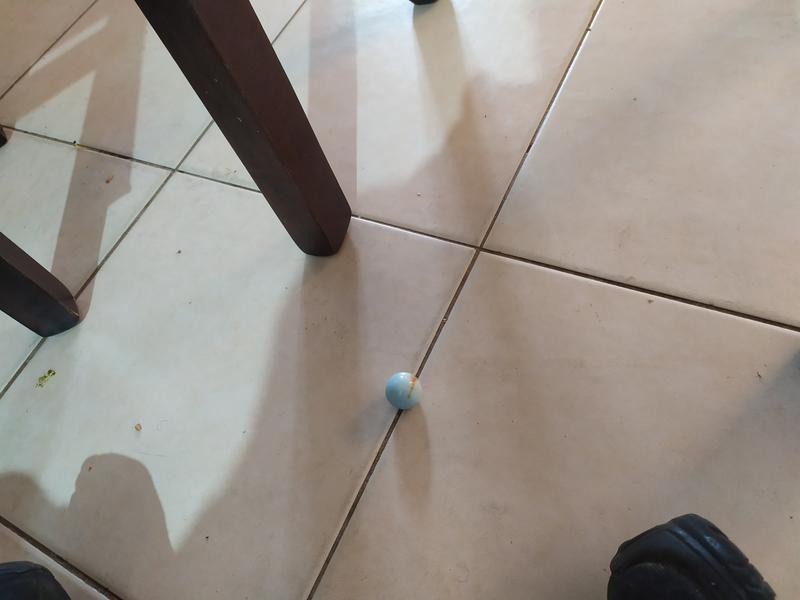Warning: (384, 370, 426, 412)
